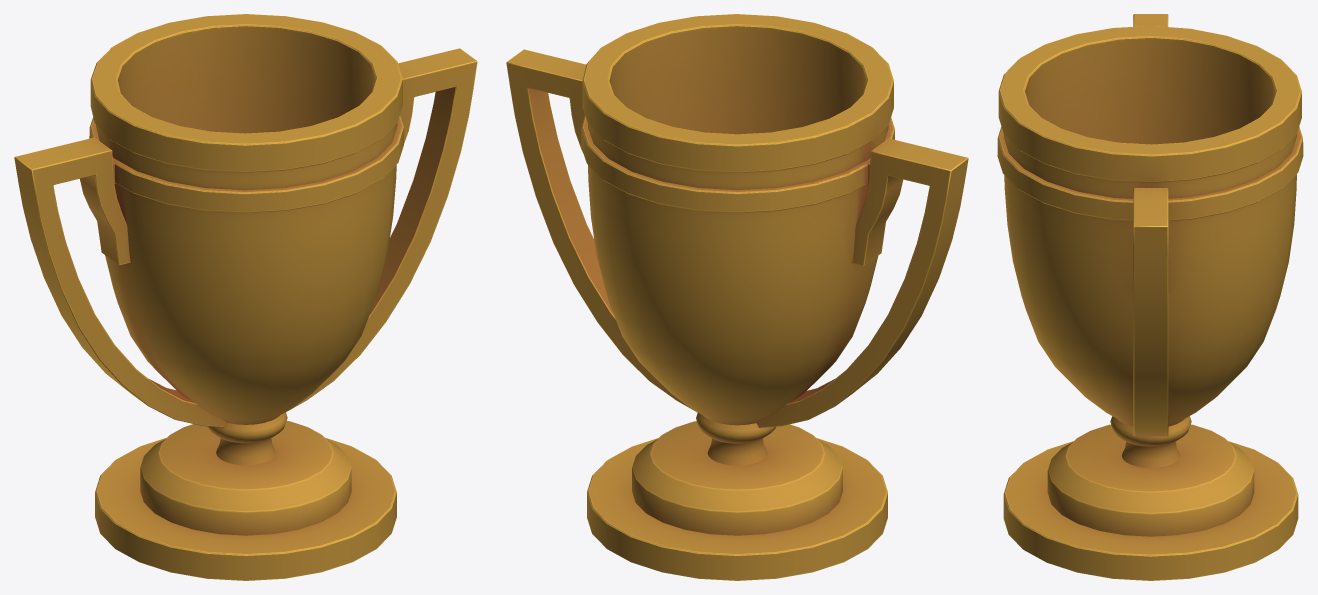
The model's file is trophy.glb.
3 renders of one model, left to right at view 1: azimuth 30°, elevation 25°; view 2: azimuth 150°, elevation 25°; view 3: azimuth 270°, elevation 25°, orthographic. The views are drawn at different scales.
Parts seen in each view (by area): view 1: Object_2; view 2: Object_2; view 3: Object_2.
Part boxes in pixels (x1,y1,x2,y2): Object_2: (14, 14, 477, 580); Object_2: (506, 14, 968, 580); Object_2: (997, 14, 1303, 580).
Size of the model in its own units: 3.29 by 3.1 by 2.
Materials: 1 (1 with a texture image).
